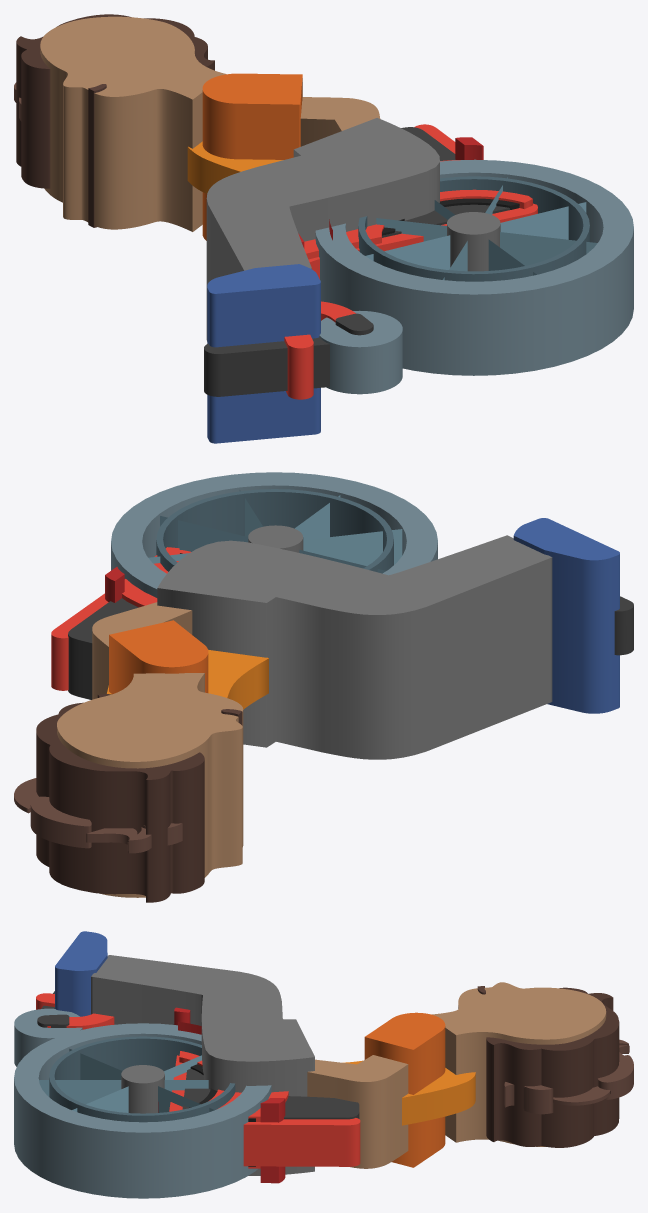
Rendered from emoji_u1f9d1_1f3fd_200d_1f9bd.glb.
The picture shows the model from 3 angles, top to bottom: view 1: azimuth 30°, elevation 25°; view 2: azimuth 150°, elevation 25°; view 3: azimuth 270°, elevation 25°; orthographic projection. The views are drawn at different scales.
Visible parts, largest first — view 1: emoji_u1f9d1_1f3fd_200d_1f9bd; view 2: emoji_u1f9d1_1f3fd_200d_1f9bd; view 3: emoji_u1f9d1_1f3fd_200d_1f9bd.
Part boxes in pixels (box(x1,y1,x2,y2)): emoji_u1f9d1_1f3fd_200d_1f9bd: box(14, 14, 633, 443); emoji_u1f9d1_1f3fd_200d_1f9bd: box(14, 472, 633, 902); emoji_u1f9d1_1f3fd_200d_1f9bd: box(14, 931, 633, 1198).
Size of the model in its own units: 0.0219 by 0.007 by 0.0324.
